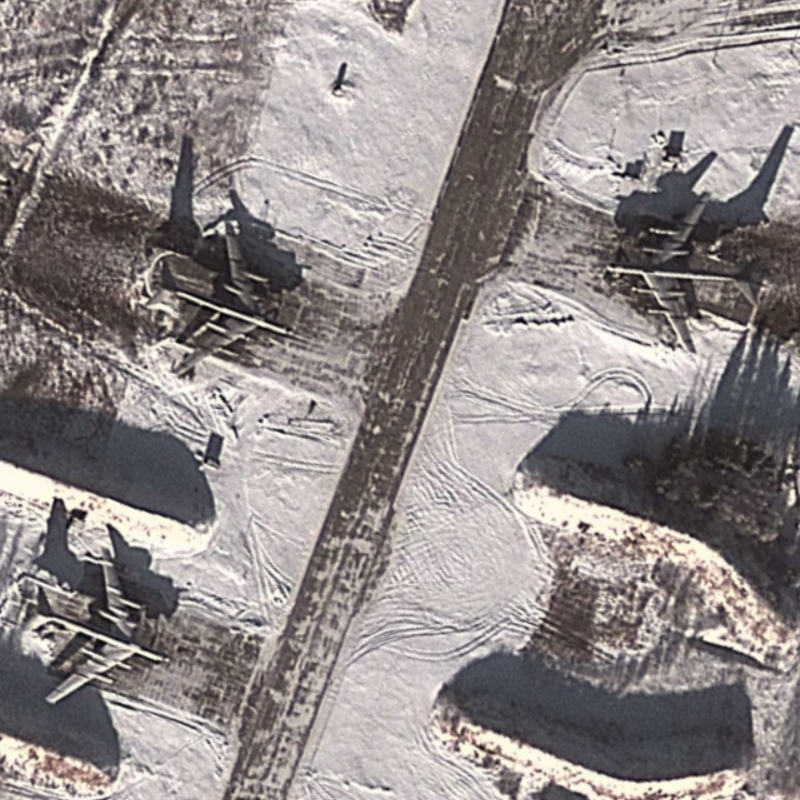A17: (603, 188, 771, 357), (144, 219, 297, 381), (28, 545, 173, 707)
